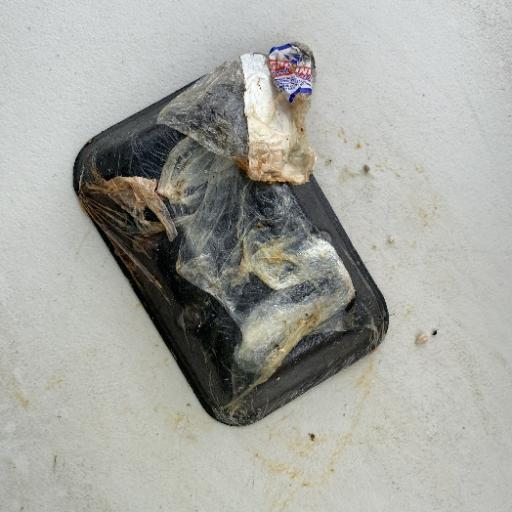Plastic: (70, 41, 389, 427)
